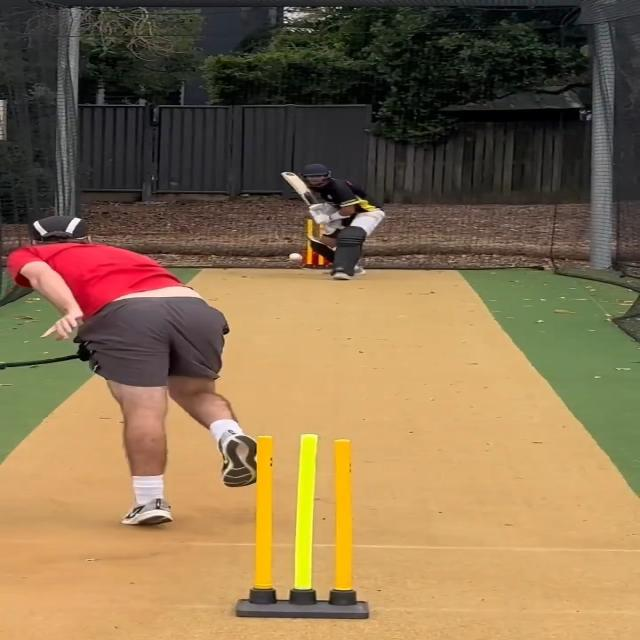ball: (287, 252, 304, 262)
stump: (232, 432, 368, 619)
